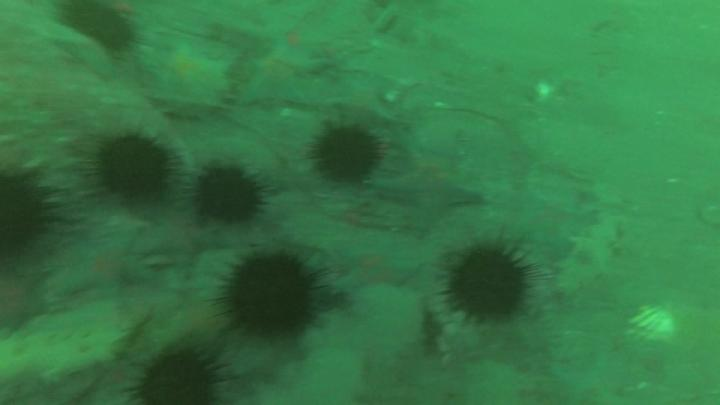echinus: (229, 257, 316, 339), (452, 250, 527, 322), (100, 136, 171, 203), (140, 348, 220, 405), (2, 177, 49, 260), (197, 167, 262, 225), (316, 128, 379, 182), (75, 6, 132, 53)
holothurian: (553, 217, 623, 297)
scallop: (633, 300, 678, 345)
starfish: (379, 154, 480, 237), (61, 237, 159, 304), (248, 36, 332, 111), (513, 182, 591, 251), (148, 213, 225, 277), (146, 43, 228, 103), (334, 247, 422, 291), (3, 273, 51, 334), (339, 74, 394, 123)
